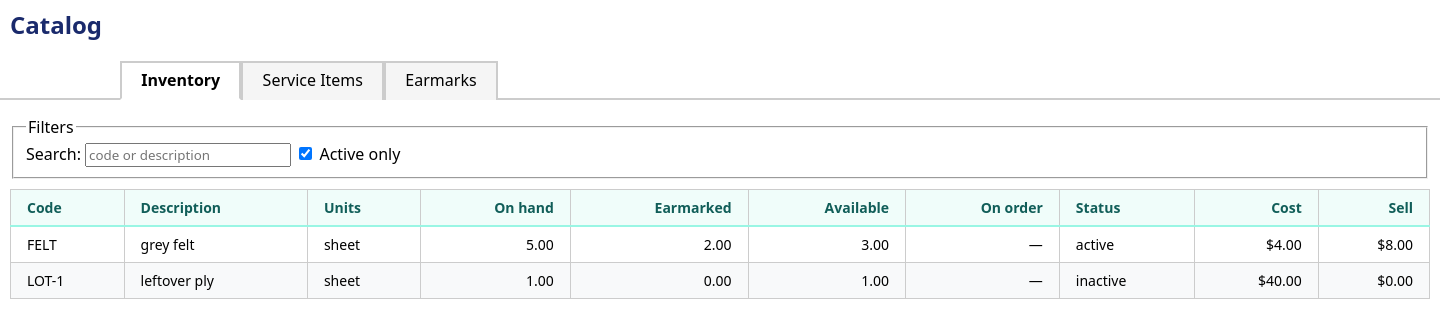
it: CatalogInventoryPage › filters client-side by search text
Expected: the text "FELT" is shown, [10,226,124,263]
Type "ply" into the search field with placeholder "code or description" at point(188, 155), box [85,143,291,167]
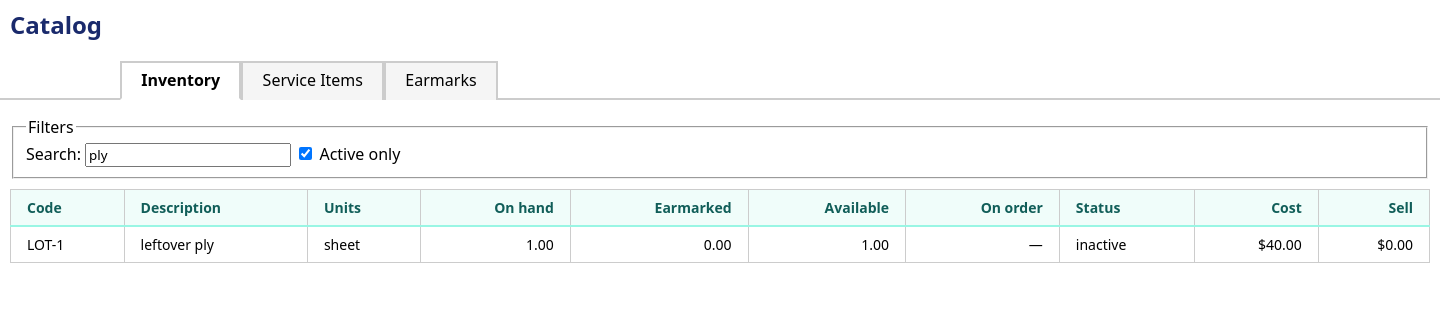
Expected: the text "leftover ply" is shown, [141,235,214,254]
Expected: the text "FELT" is gone
